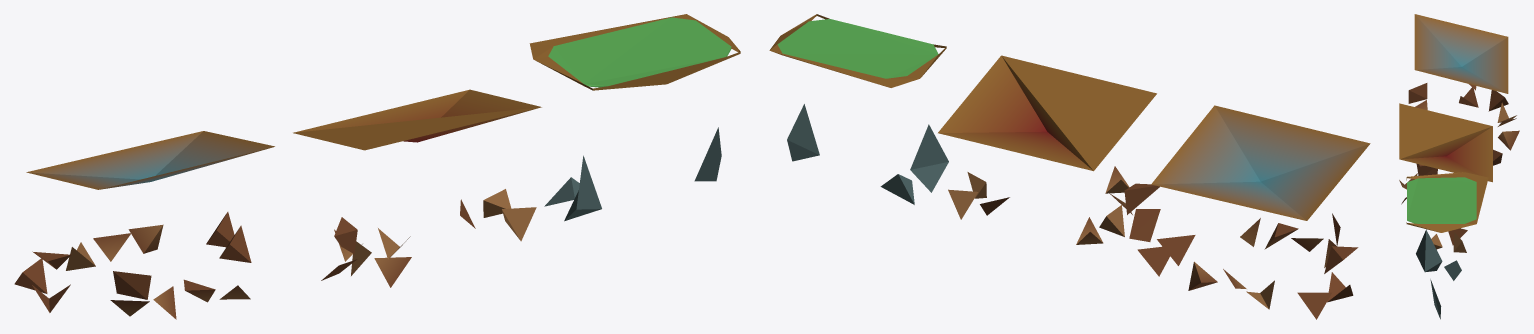
The model's file is market-props.lod2.glb.
The picture shows the model from 3 angles, left to right: view 1: azimuth 30°, elevation 25°; view 2: azimuth 150°, elevation 25°; view 3: azimuth 270°, elevation 25°; orthographic projection. The views are drawn at different scales.
Parts seen in each view (by area): view 1: polySurface433_Green_0; view 2: polySurface433_Green_0; view 3: polySurface433_Green_0.
Boxes of the visible parts, x1,y1,x2,y2 form: polySurface433_Green_0: (14,14,740,319); polySurface433_Green_0: (769,14,1370,319); polySurface433_Green_0: (1399,14,1519,319).
Size of the model in its own units: 22.29 by 5.12 by 5.37.
